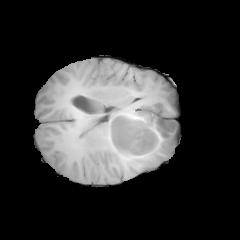glioma: (103, 104, 177, 166)
